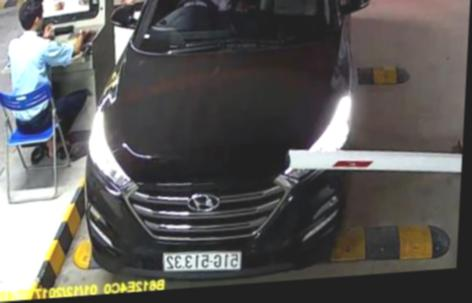License_Plate: (162, 243, 246, 277)
